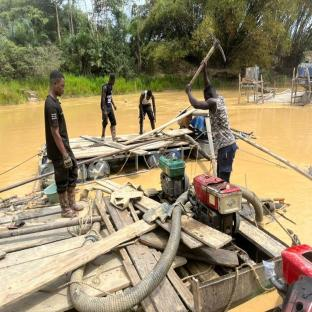Person: (181, 52, 242, 182), (38, 69, 89, 219), (99, 72, 126, 143), (137, 84, 161, 137)
ProcessingEquipment: (187, 170, 243, 235), (275, 233, 312, 312), (159, 150, 192, 203), (237, 58, 275, 104), (292, 47, 312, 105)
